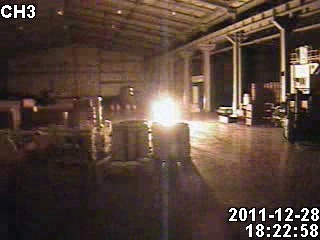fire: (148, 88, 184, 127)
